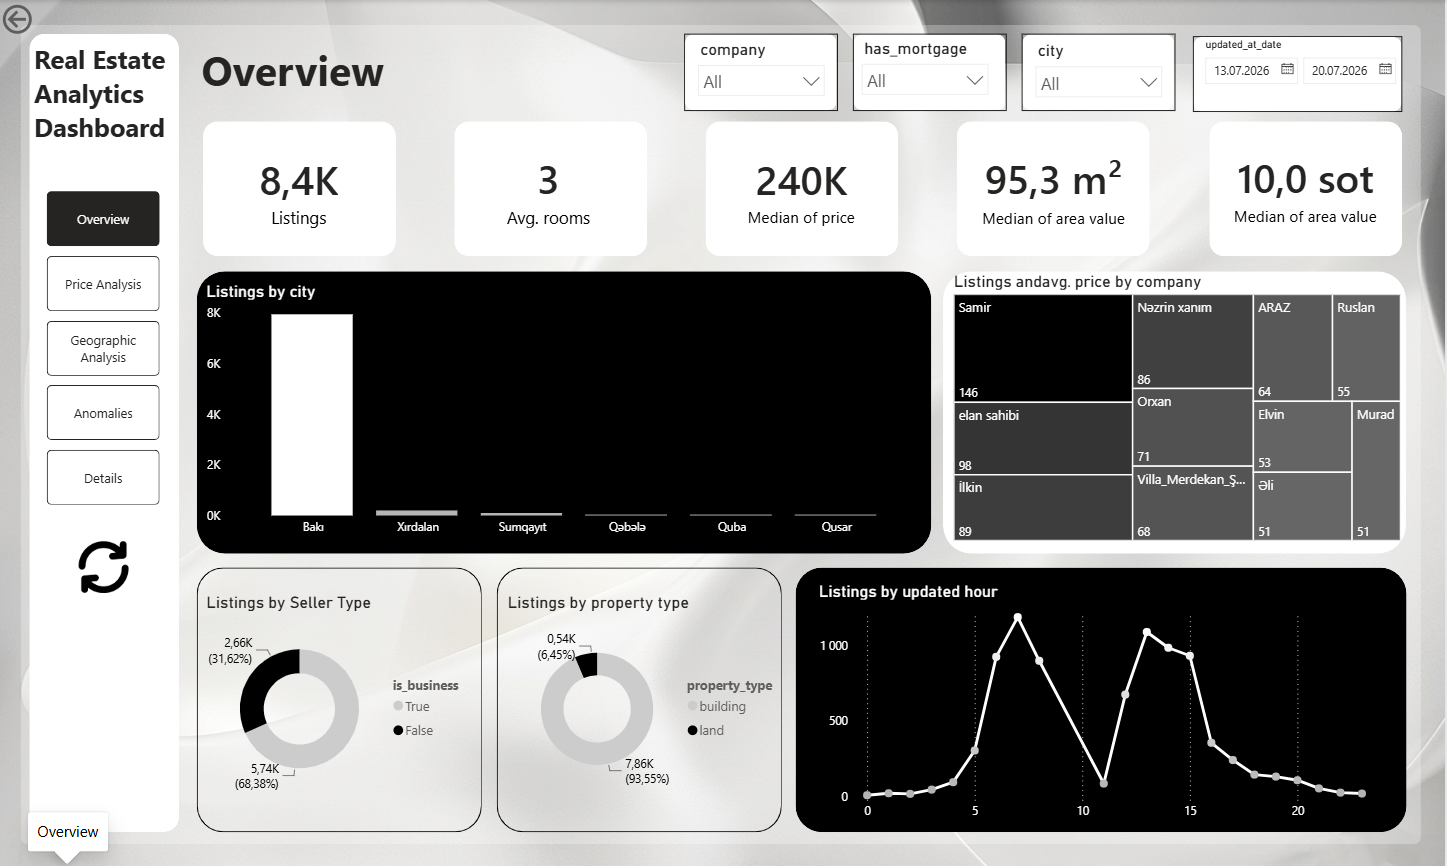

The page's visual inventory and layout, read from the dashboard file:
{"tool":"powerbi","page":{"name":"Overview","canvas":[1500,900],"ordinal":0},"visuals":[{"type":"shape","box":[23.2,25.9,1451.2,848.9],"z":0},{"type":"shape","box":[472.9,125.5,200,140],"z":1000},{"type":"shape","box":[32.7,35.4,155.3,827.1],"z":2000},{"type":"textbox","box":[205.4,38,223.7,68.9],"z":3000},{"type":"shape","box":[212.2,125.5,200,140],"z":4000},{"type":"shape","box":[994.2,125.5,200,140],"z":5000},{"type":"shape","box":[733.5,125.5,200,140],"z":6000},{"type":"shape","box":[1254.8,125.5,200,140],"z":7000},{"type":"cardVisual","fields":{"Data":["Count(listings.id)"]},"box":[233.6,137.9,157.6,119.6],"z":8000},{"type":"cardVisual","fields":{"Data":["Avg(listings.rooms)"]},"box":[468.9,136,203.4,120.5],"z":9000},{"type":"cardVisual","fields":{"Data":["Median(listings.price)"]},"box":[740.9,136,183.9,120.5],"z":10000},{"type":"cardVisual","fields":{"Data":["Median(listings.area_value)"]},"box":[981.9,130.8,224.1,130.8],"z":11000},{"type":"cardVisual","fields":{"Data":["Median(listings.area_value)"]},"box":[1244.8,137.3,220.2,115.3],"z":12000},{"type":"shape","box":[516.4,587.6,295.5,274.4],"z":13000},{"type":"shape","box":[205.4,587.6,295.5,274.4],"z":14000},{"type":"shape","box":[1061,35.2,159,80.2],"z":15000},{"type":"shape","box":[979.4,281.4,479.8,292.7],"z":16000},{"type":"shape","box":[826,588.2,633.2,274.4],"z":17000},{"type":"shape","box":[886.5,35.2,159,80.2],"z":18000},{"type":"shape","box":[710.6,35.2,159,80.2],"z":19000},{"type":"shape","box":[1238.2,37,217.1,78.8],"z":20000},{"type":"shape","box":[205.4,281.4,761.3,292.7],"z":21000},{"type":"columnChart","title":"Listings by city","fields":{"Category":["listings.city","listings.district","listings.district_full"],"Y":["CountNonNull(listings.city)"]},"box":[211.1,291.3,750,273],"z":22000},{"type":"donutChart","title":"Listings by property type","fields":{"Category":["listings.property_type"],"Y":["CountNonNull(listings.property_type)"]},"box":[523.5,613.5,288.5,222.3],"z":23000},{"type":"donutChart","title":"Listings by Seller Type","fields":{"Category":["listings.is_business"],"Y":["CountNonNull(listings.has_repair)"]},"box":[211.1,613.5,289.9,222.3],"z":24000},{"type":"lineChart","title":"Listings by updated hour","fields":{"Y":["CountNonNull(listings.id)"],"Category":["listings.updated_at_just_hour"]},"box":[845.7,602.3,605.1,256.1],"z":25000},{"type":"treemap","title":"Listings andavg. price by company","fields":{"Group":["listings.company"],"Values":["CountNonNull(listings.id)"]},"box":[986.4,281.4,472.8,284.2],"z":26000},{"type":"slicer","fields":{"Values":["listings.city"]},"box":[1065.2,38,152,77.4],"z":27000},{"type":"slicer","fields":{"Values":["listings.updated_at_date"]},"box":[1238.2,35.4,217.1,77.2],"z":28000},{"type":"slicer","fields":{"Values":["listings.has_mortgage"]},"box":[885.1,35.2,152,77.4],"z":29000},{"type":"slicer","fields":{"Values":["listings.company"]},"box":[714.8,36.6,152,77.4],"z":30000},{"type":"textbox","box":[32.4,38,173.1,128],"z":31000},{"type":"actionButton","box":[0,0,100,40],"z":32000},{"type":"pageNavigator","box":[50.4,197.6,117.2,329.8],"z":33000},{"type":"image","box":[73.4,560.9,71.7,53.8],"z":34000}]}

Visuals, with their boxes on the page's 1500x900 design canvas (x1, y1, x2, y2). These are canvas units, not pixel positions in the 1447x866 screenshot, which may show the page scaled, cropped or inside an application window:
shape: 23 26 1474 875
shape: 473 126 673 266
shape: 33 35 188 862
textbox: 205 38 429 107
shape: 212 126 412 266
shape: 994 126 1194 266
shape: 734 126 934 266
shape: 1255 126 1455 266
cardVisual - Count(listings.id): 234 138 391 258
cardVisual - Avg(listings.rooms): 469 136 672 256
cardVisual - Median(listings.price): 741 136 925 256
cardVisual - Median(listings.area_value): 982 131 1206 262
cardVisual - Median(listings.area_value): 1245 137 1465 253
shape: 516 588 812 862
shape: 205 588 501 862
shape: 1061 35 1220 115
shape: 979 281 1459 574
shape: 826 588 1459 863
shape: 886 35 1046 115
shape: 711 35 870 115
shape: 1238 37 1455 116
shape: 205 281 967 574
"Listings by city" columnChart: 211 291 961 564
"Listings by property type" donutChart: 524 614 812 836
"Listings by Seller Type" donutChart: 211 614 501 836
"Listings by updated hour" lineChart: 846 602 1451 858
"Listings andavg. price by company" treemap: 986 281 1459 566
slicer - listings.city: 1065 38 1217 115
slicer - listings.updated_at_date: 1238 35 1455 113
slicer - listings.has_mortgage: 885 35 1037 113
slicer - listings.company: 715 37 867 114
textbox: 32 38 206 166
actionButton: 0 0 100 40
pageNavigator: 50 198 168 527
image: 73 561 145 615
